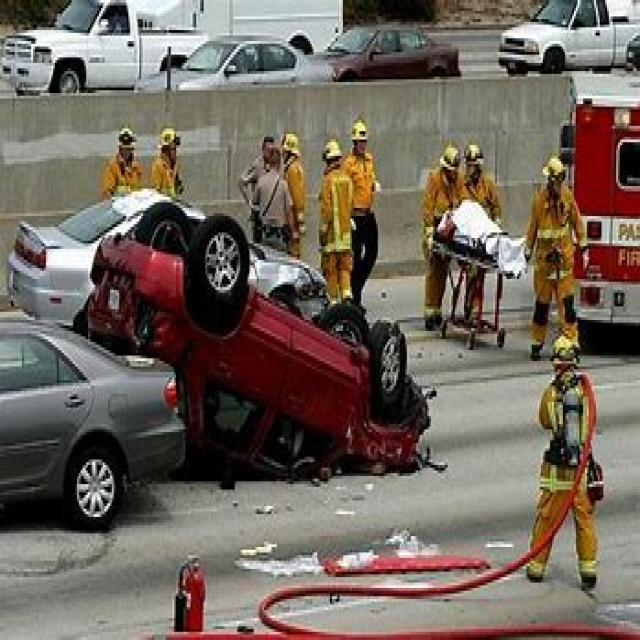Accident: (56, 110, 422, 550)
